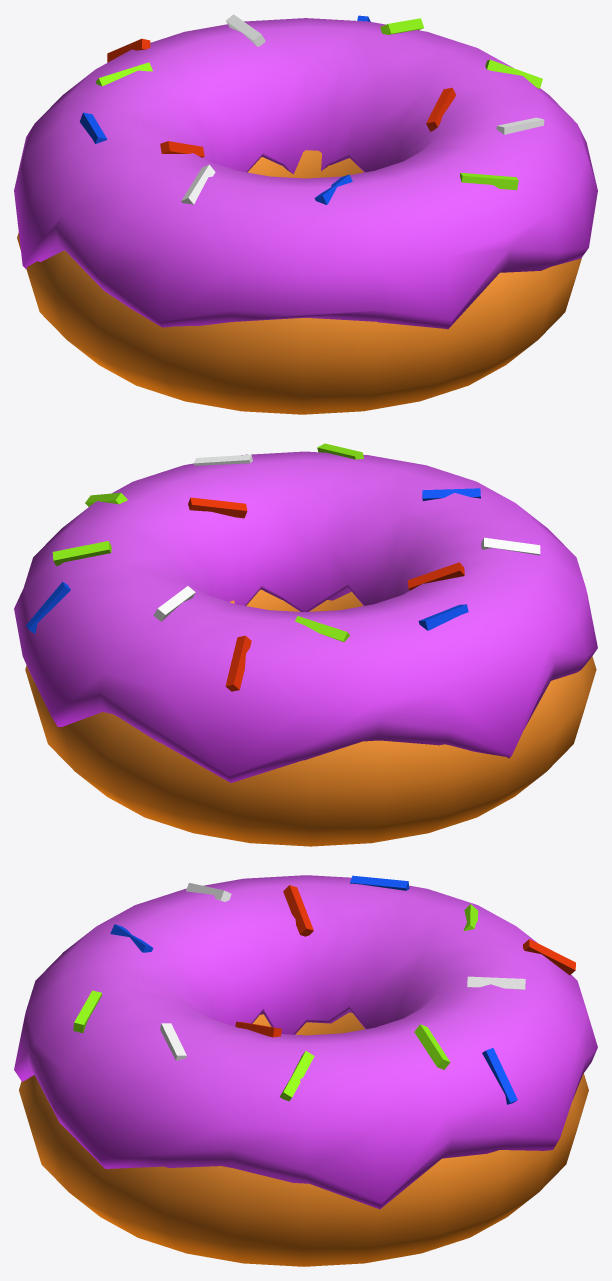
File: Collectable_Donut_01.fbx
The picture shows the model from 3 angles, top to bottom: view 1: azimuth 30°, elevation 25°; view 2: azimuth 150°, elevation 25°; view 3: azimuth 270°, elevation 25°; orthographic projection.
Visible parts, largest first — view 1: Collectable_Donut_01; view 2: Collectable_Donut_01; view 3: Collectable_Donut_01.
Part boxes in pixels (<box>): Collectable_Donut_01: <box>14,14,597,414</box>; Collectable_Donut_01: <box>14,443,597,846</box>; Collectable_Donut_01: <box>14,875,597,1266</box>.
Bounding box in the file's own units: 68.1 × 29.17 × 68.32.
1 material, 1 textured.
